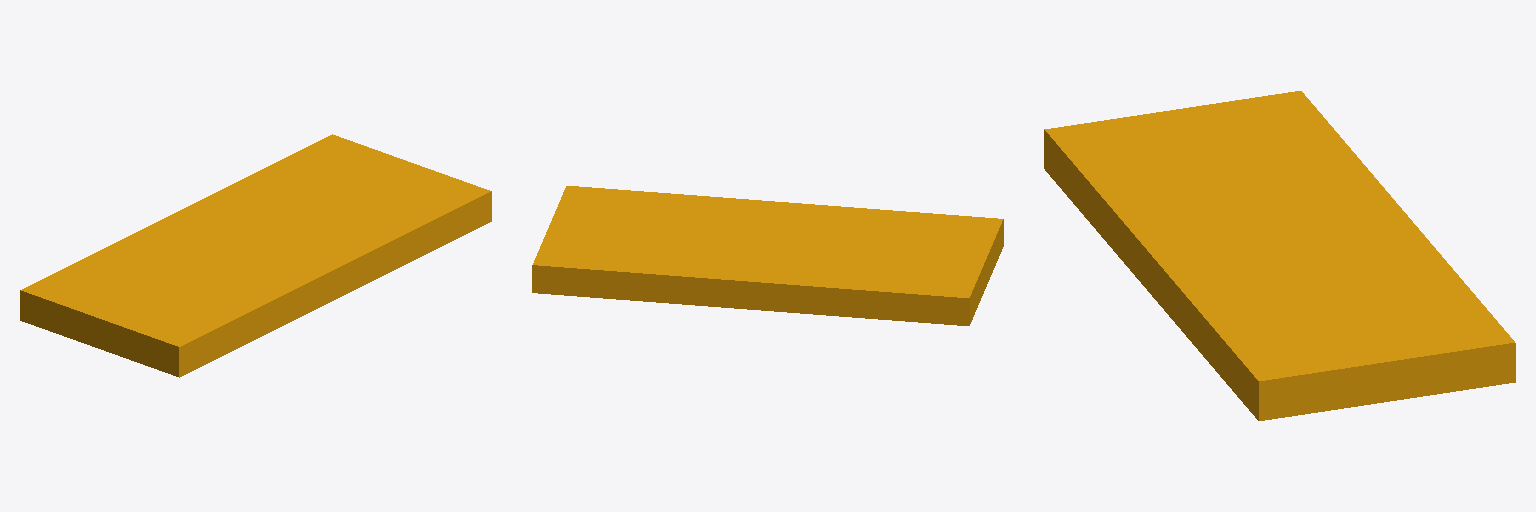
robot.urdf — Interference:
<?xml version="1.0"?>
<robot name="Interference">
  <link name="baseLink">
    <inertial>
      <origin xyz="0.0 0.0 0.0" rpy="0.0 0.0 0.0"/>
      <inertia ixx="0.0" ixy="0.0" ixz="0.0" iyy="0.0" iyz="0.0" izz="0.0"/>
      <mass value="0"/>
    </inertial>
    <visual>
      <origin xyz="0.0 0.0 0.0" rpy="0.0 0.0 -1.2258675257514255"/>
      <geometry>
        <box size="0.06186494899588876 0.1436873965538669 0.01"/>
      </geometry>
      <material name="color">
        <color rgba="0.9212174492058722 0.6664394461272816 0.09321102930627445 1.0"/>
      </material>
    </visual>
  </link>
</robot>

--- What the picture shows (computed from the rendered views, not written in the file) ---
Views: 3 orthographic renders of the robot side by side, from view 1: azimuth 30°, elevation 25°; view 2: azimuth 150°, elevation 25°; view 3: azimuth 270°, elevation 25°.
Robot: Interference — 1 links, 0 joints (none); root link baseLink; default pose: every joint at zero.
Links seen in each view (by area): view 1: baseLink; view 2: baseLink; view 3: baseLink.
Boxes of the visible links, box(x1,y1,x2,y2) form: baseLink: box(20, 134, 491, 377); baseLink: box(532, 186, 1003, 325); baseLink: box(1044, 91, 1515, 420).
Size in the robot's own frame: 0.1561 by 0.1068 by 0.01 metres.
Geometry: primitives only (box / cylinder / sphere), no mesh files.